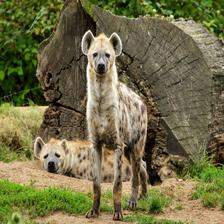hyena: (72, 29, 162, 222), (30, 125, 147, 191)
